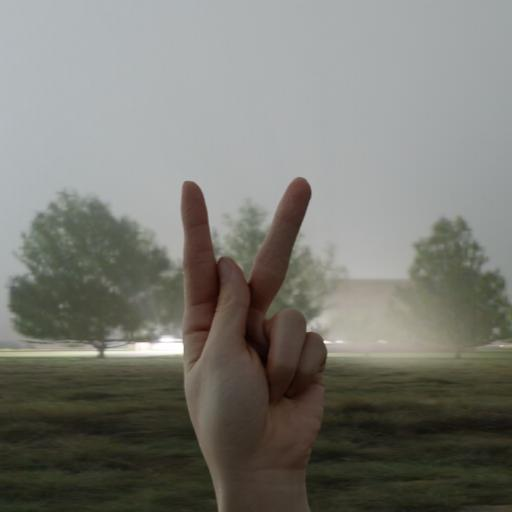K: (156, 132, 345, 459)
